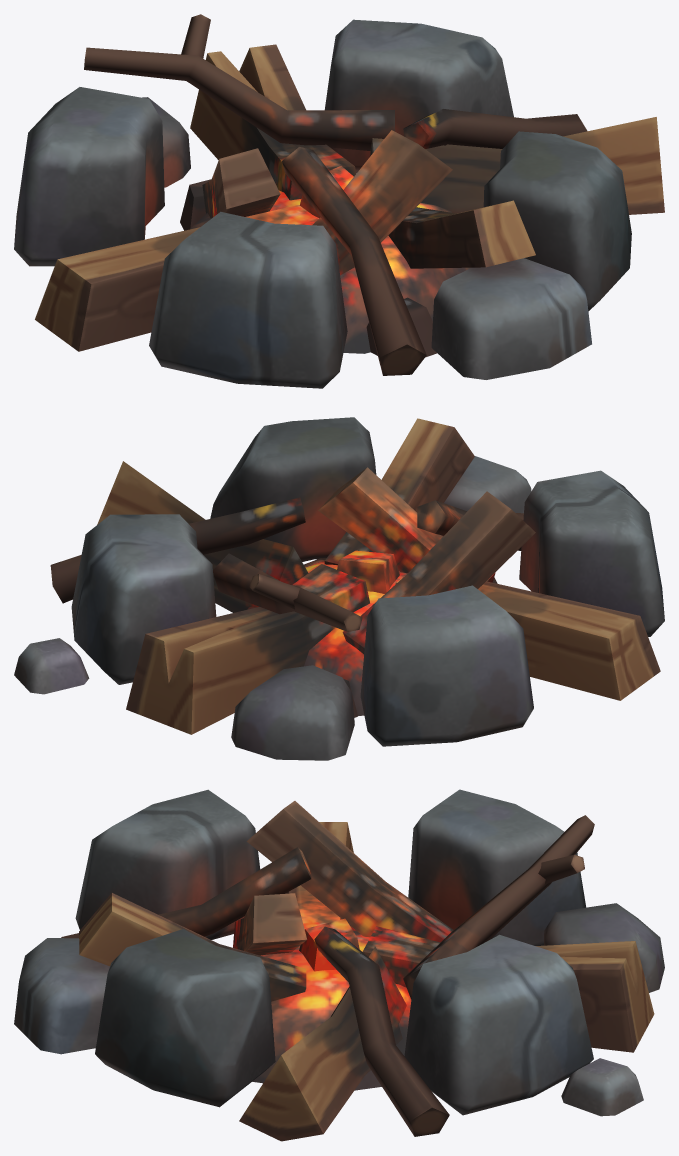
Rendered from bonfire.fbx.
3 renders of one model, top to bottom at view 1: azimuth 30°, elevation 25°; view 2: azimuth 150°, elevation 25°; view 3: azimuth 270°, elevation 25°, orthographic. The views are drawn at different scales.
Visible parts, largest first — view 1: bonfire; view 2: bonfire; view 3: bonfire.
Part boxes in pixels (bbox=[...]): bonfire: bbox=[14, 14, 664, 388]; bonfire: bbox=[14, 417, 664, 760]; bonfire: bbox=[14, 789, 664, 1141].
Size of the model in its own units: 176 by 50.01 by 175.
